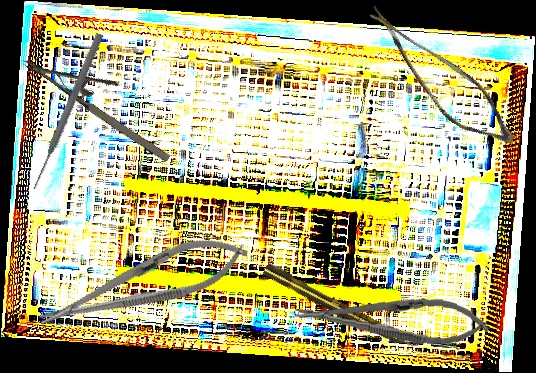Handpiece: (261, 261, 421, 356)
Micro Scissor: (340, 3, 535, 155)
Needle Holder: (31, 222, 255, 345), (21, 30, 187, 167), (293, 287, 491, 350)
Pusher: (29, 32, 105, 191)
